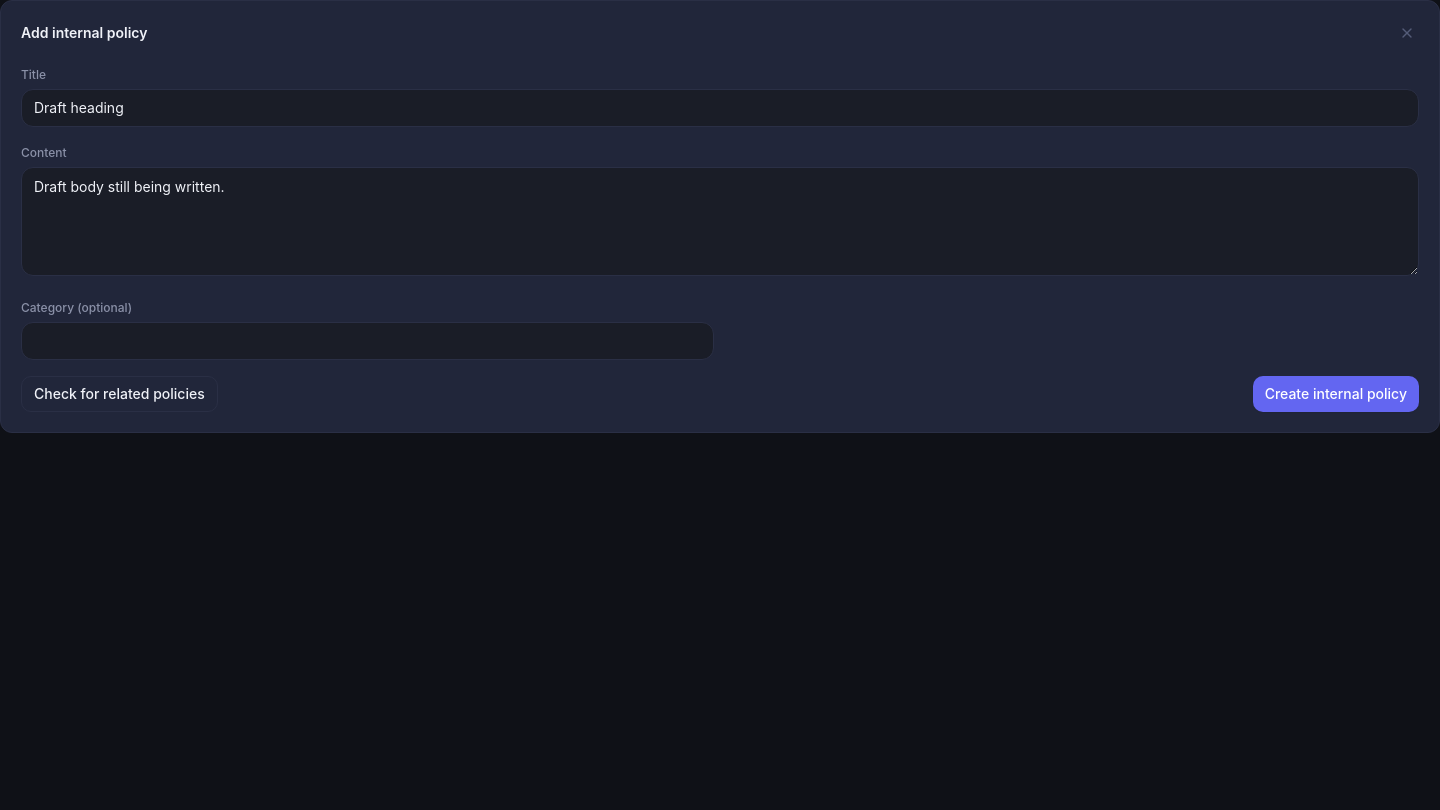
Test: AddPolicyPanel — truncation behaviour is unchanged by the newline fix › clamps to two lines while collapsed and drops the clamp once expanded
What coordinates should you click on to do the following:
click the button "Check for related policies"
I would click on:
 (119, 394)
Its box is x1=21 y1=376 x2=218 y2=412.
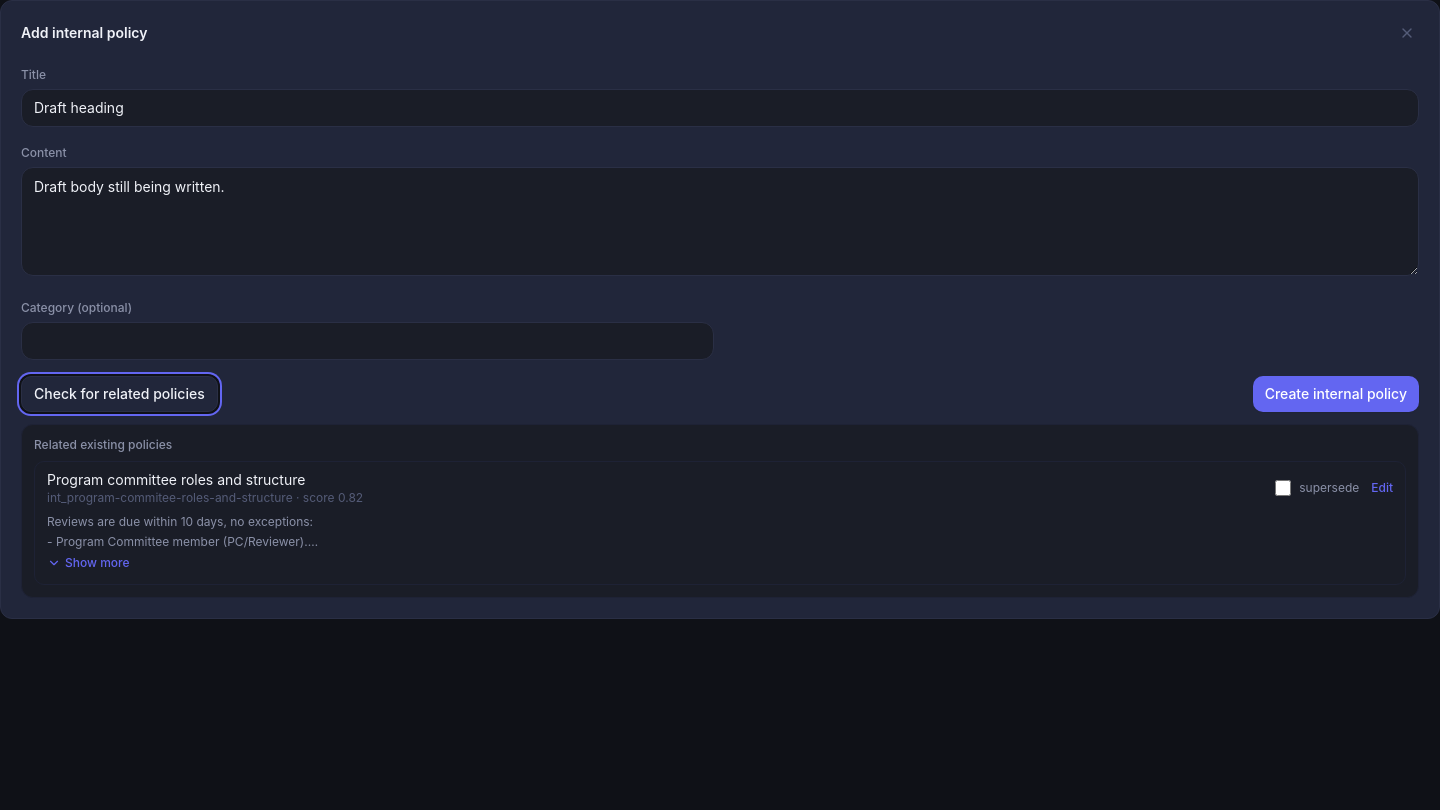
Now the text "Related existing policies" is shown, box x1=34 y1=437 x2=172 y2=453
What coordinates should you click on to do the following:
click the button "Show more"
I would click on:
 (88, 563)
Its box is x1=47 y1=555 x2=130 y2=571.
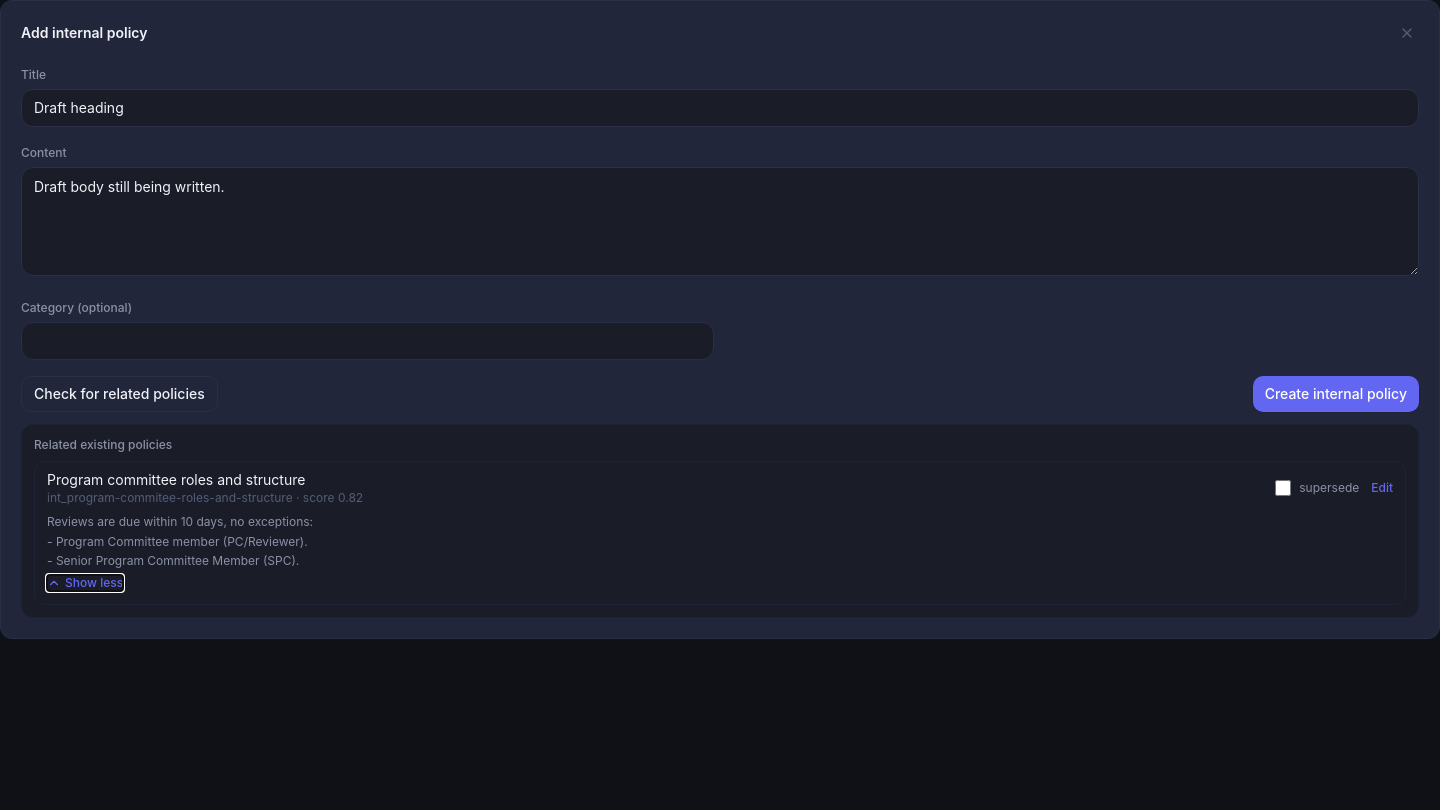
Now the button "Show less" is expanded, box x1=47 y1=574 x2=123 y2=590
